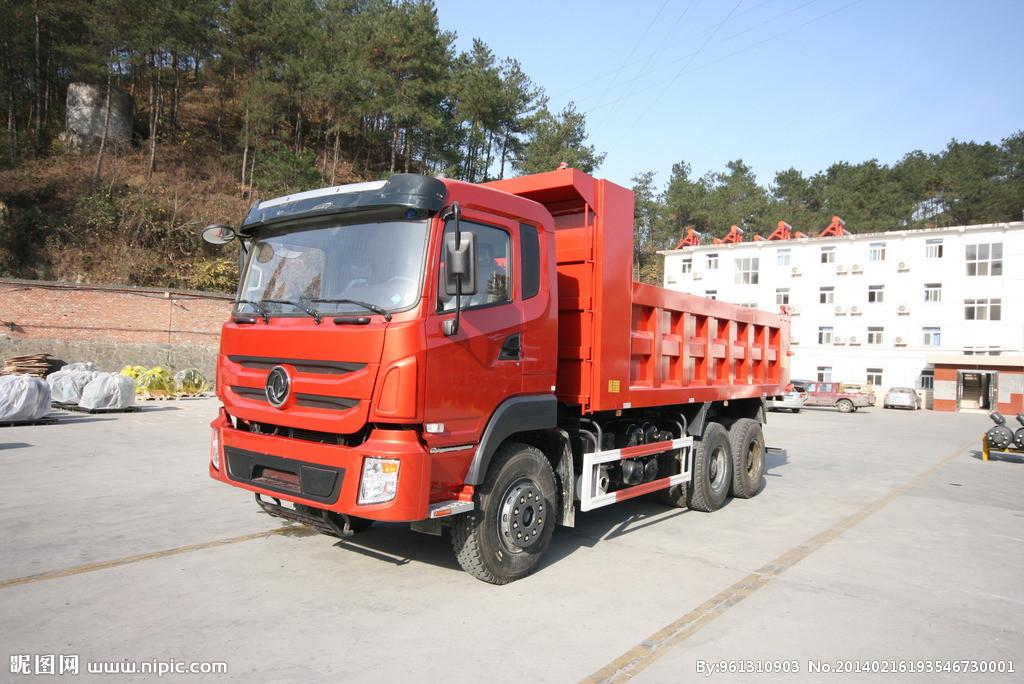truck: (204, 143, 791, 591)
